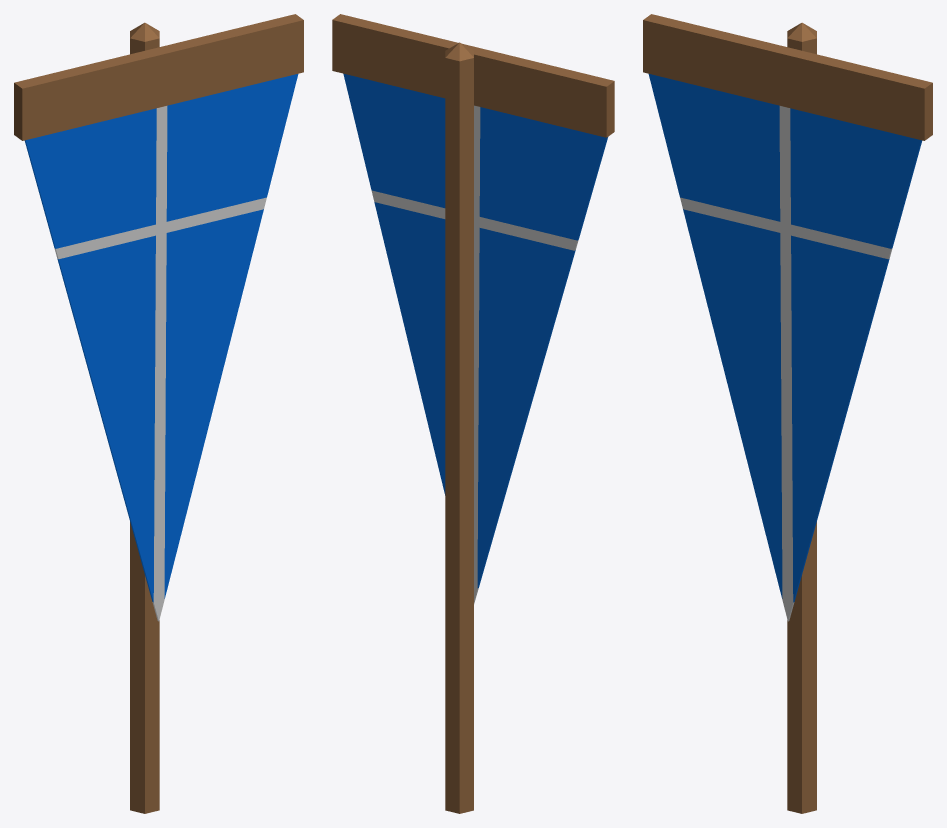
Rendered from Player_flag_blue_2_mat.fbx.
3 renders of one model, left to right at view 1: azimuth 30°, elevation 25°; view 2: azimuth 150°, elevation 25°; view 3: azimuth 330°, elevation 25°, orthographic. The views are drawn at different scales.
Parts seen in each view (by area): view 1: Player_flag_blue_2_mat; view 2: Player_flag_blue_2_mat; view 3: Player_flag_blue_2_mat.
Boxes of the visible parts, x1,y1,x2,y2 form: Player_flag_blue_2_mat: (14,14,303,813); Player_flag_blue_2_mat: (332,14,614,813); Player_flag_blue_2_mat: (643,14,932,813).
Size of the model in its own units: 0.7631 by 2.03 by 0.1204.
